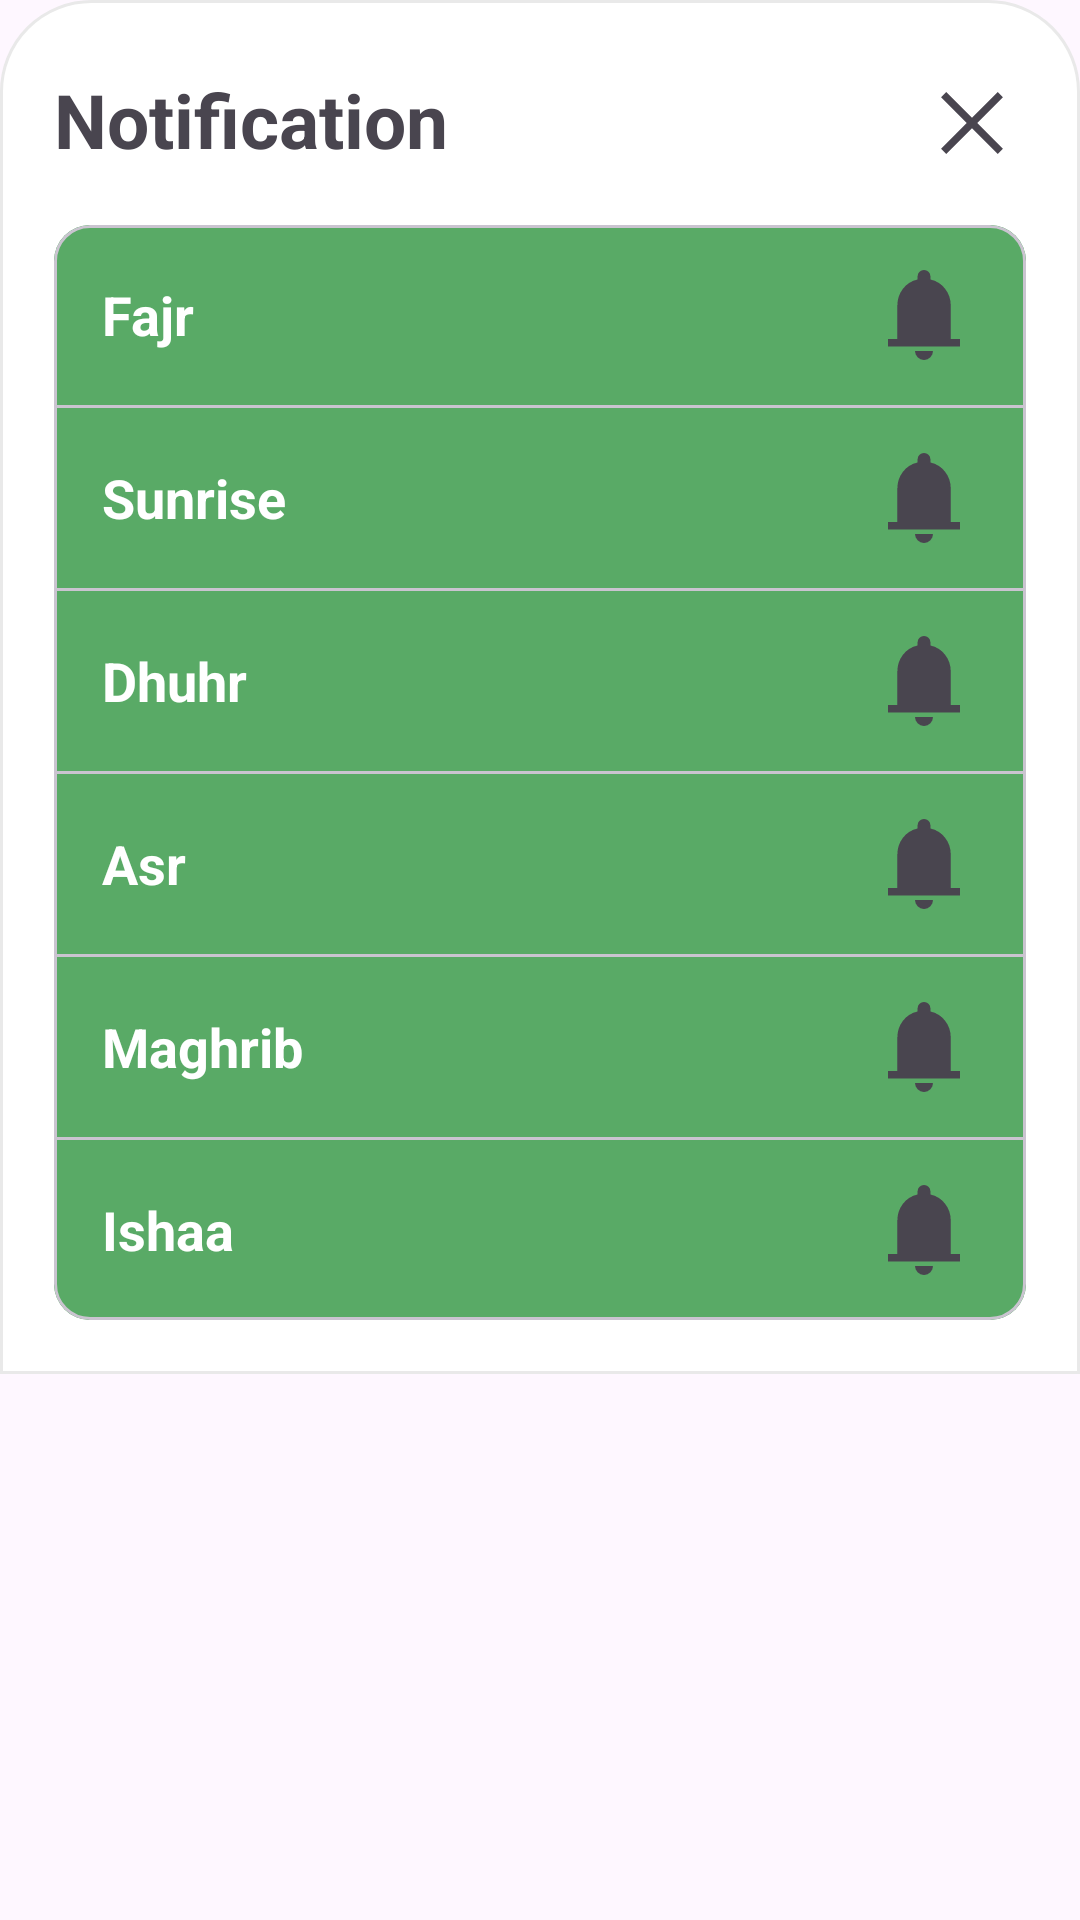

Screen size 1080w x 1920h. Icon name, then its box in pixels as [x1=x1, y1=y1, x2=x2, y2=y2]:
symbol close: [x1=941, y1=92, x2=1003, y2=154]
